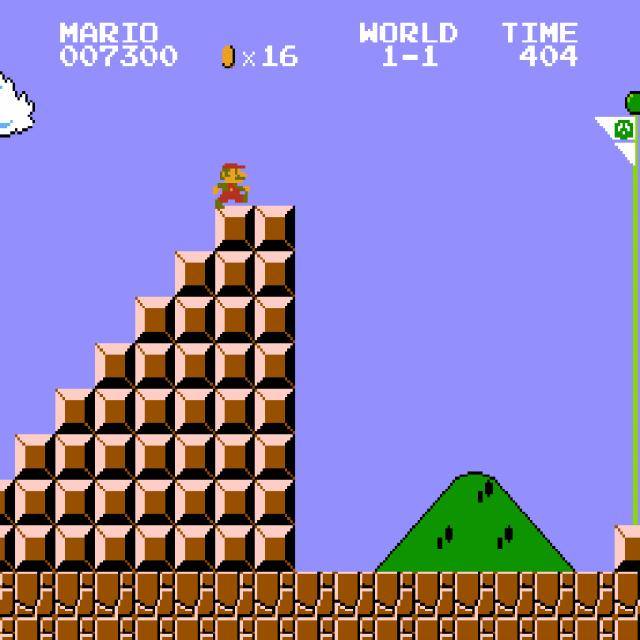goal_pole: (614, 68, 640, 114), (614, 205, 640, 251), (614, 251, 640, 297), (614, 342, 640, 388), (614, 388, 640, 434), (614, 114, 640, 159), (614, 160, 640, 205), (614, 297, 640, 342), (614, 434, 640, 479), (614, 480, 640, 525)
hard_block: (15, 434, 55, 480), (15, 480, 55, 526), (55, 434, 95, 480), (55, 480, 95, 526), (95, 434, 135, 480), (95, 480, 135, 526), (135, 297, 175, 343), (135, 434, 175, 480), (135, 480, 175, 526), (175, 297, 215, 343), (175, 434, 215, 480), (175, 480, 215, 526), (215, 297, 255, 343), (215, 434, 255, 480), (215, 480, 255, 526), (255, 297, 295, 343), (255, 434, 295, 480), (255, 480, 295, 526), (15, 526, 55, 571), (55, 389, 95, 434), (55, 526, 95, 571), (95, 343, 135, 388), (95, 389, 135, 434), (95, 526, 135, 571), (135, 343, 175, 388), (135, 389, 175, 434), (135, 526, 175, 571), (175, 252, 215, 297), (175, 343, 215, 388), (175, 389, 215, 434), (175, 526, 215, 571), (215, 206, 255, 251), (215, 252, 255, 297), (215, 343, 255, 388), (215, 389, 255, 434), (215, 526, 255, 571), (255, 206, 295, 251), (255, 252, 295, 297), (255, 343, 295, 388), (255, 389, 295, 434), (255, 526, 295, 571), (614, 525, 640, 571), (0, 480, 15, 526), (0, 526, 15, 571)
little_mario: (210, 160, 253, 208)
undestructible_block: (15, 572, 55, 617), (55, 572, 95, 617), (95, 572, 135, 617), (135, 572, 175, 617), (175, 572, 215, 617), (215, 572, 255, 617), (255, 572, 295, 617), (295, 572, 335, 617), (335, 572, 375, 617), (375, 572, 415, 617), (415, 572, 455, 617), (455, 572, 495, 617), (495, 572, 535, 617), (535, 572, 575, 617), (575, 572, 615, 617), (614, 571, 640, 617), (15, 617, 55, 640), (55, 617, 95, 640), (95, 617, 135, 640), (135, 617, 175, 640), (175, 617, 215, 640), (215, 617, 255, 640), (255, 617, 295, 640), (295, 617, 335, 640), (335, 617, 375, 640), (375, 617, 415, 640), (415, 617, 455, 640), (455, 617, 495, 640), (495, 617, 535, 640), (535, 617, 575, 640), (575, 617, 615, 640), (0, 572, 15, 617), (614, 617, 640, 639), (0, 617, 15, 640)
